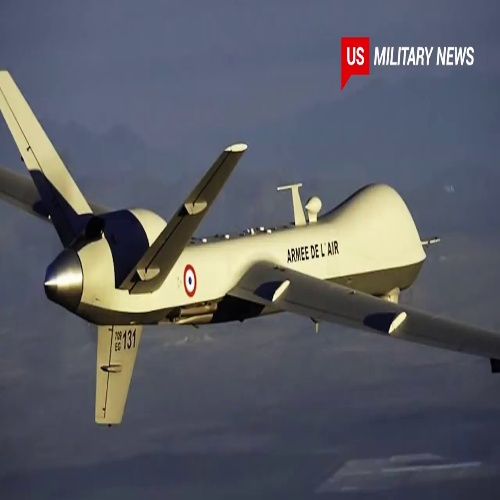uav74: (2, 68, 500, 426)
